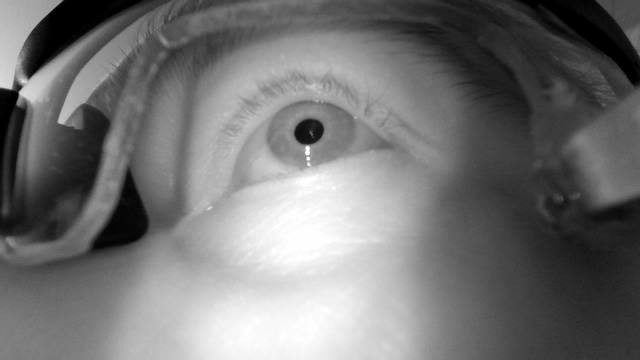pupil: (294, 118, 324, 145)
